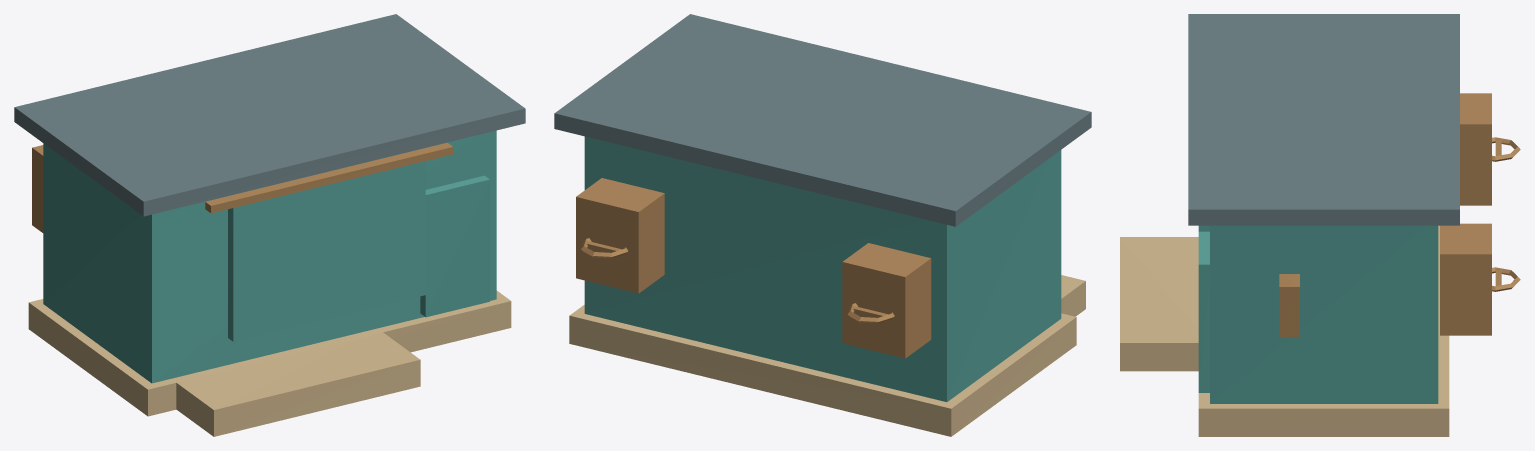
File: Cold-Storage.glb
The picture shows the model from 3 angles, left to right: view 1: azimuth 30°, elevation 25°; view 2: azimuth 150°, elevation 25°; view 3: azimuth 270°, elevation 25°; orthographic projection. The views are drawn at different scales.
Visible parts, largest first — view 1: wind-pump-static-cold-storage-pale-panel, wind-pump-static-cold-storage-galvanized-roof, wind-pump-static-cold-storage-stone-curb, wind-pump-static-cold-storage-dark-frame, wind-pump-static-cold-storage-refrigeration-box; view 2: wind-pump-static-cold-storage-pale-panel, wind-pump-static-cold-storage-galvanized-roof, wind-pump-static-cold-storage-stone-curb, wind-pump-static-cold-storage-refrigeration-box, wind-pump-static-cold-storage-dark-frame; view 3: wind-pump-static-cold-storage-galvanized-roof, wind-pump-static-cold-storage-pale-panel, wind-pump-static-cold-storage-stone-curb, wind-pump-static-cold-storage-refrigeration-box, wind-pump-static-cold-storage-dark-frame.
Boxes of the visible parts, x1,y1,x2,y2 form: wind-pump-static-cold-storage-pale-panel: [43, 130, 496, 383]; wind-pump-static-cold-storage-galvanized-roof: [14, 14, 525, 216]; wind-pump-static-cold-storage-stone-curb: [28, 290, 511, 436]; wind-pump-static-cold-storage-dark-frame: [205, 142, 453, 213]; wind-pump-static-cold-storage-refrigeration-box: [32, 145, 43, 232]; wind-pump-static-cold-storage-pale-panel: [584, 136, 1061, 401]; wind-pump-static-cold-storage-galvanized-roof: [554, 14, 1091, 226]; wind-pump-static-cold-storage-stone-curb: [569, 275, 1085, 436]; wind-pump-static-cold-storage-refrigeration-box: [576, 178, 931, 358]; wind-pump-static-cold-storage-dark-frame: [581, 238, 894, 323]; wind-pump-static-cold-storage-galvanized-roof: [1188, 14, 1459, 225]; wind-pump-static-cold-storage-pale-panel: [1198, 225, 1438, 403]; wind-pump-static-cold-storage-stone-curb: [1120, 225, 1449, 436]; wind-pump-static-cold-storage-refrigeration-box: [1440, 93, 1491, 335]; wind-pump-static-cold-storage-dark-frame: [1279, 137, 1520, 337].
Bounding box in the file's own units: 2.73 × 1.48 × 2.32.
